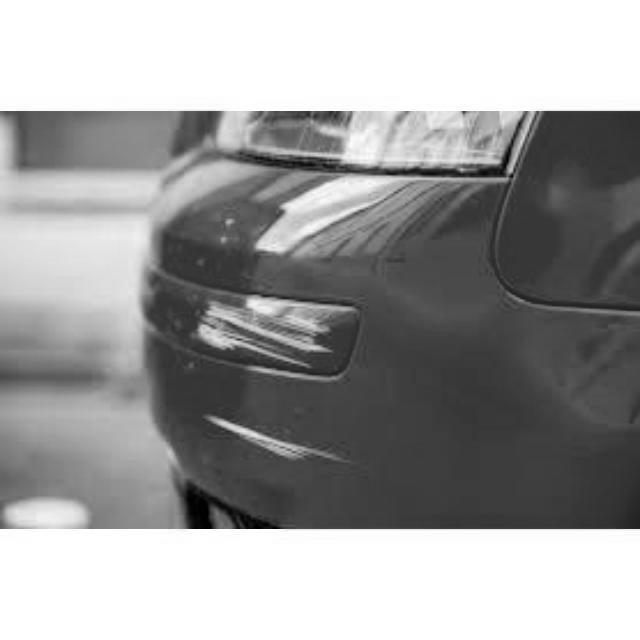front-bumper-dent: (116, 141, 505, 527)
